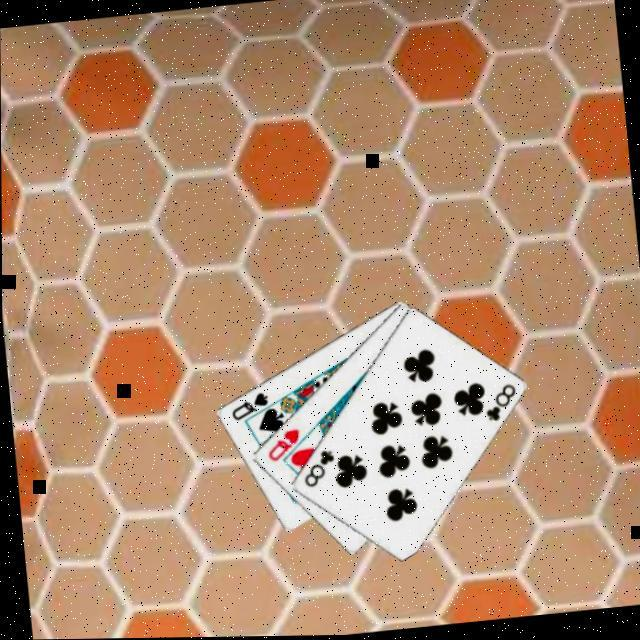8C: (295, 447, 337, 492), (476, 382, 518, 427)
QH: (259, 427, 300, 466)
QS: (223, 389, 270, 426)
